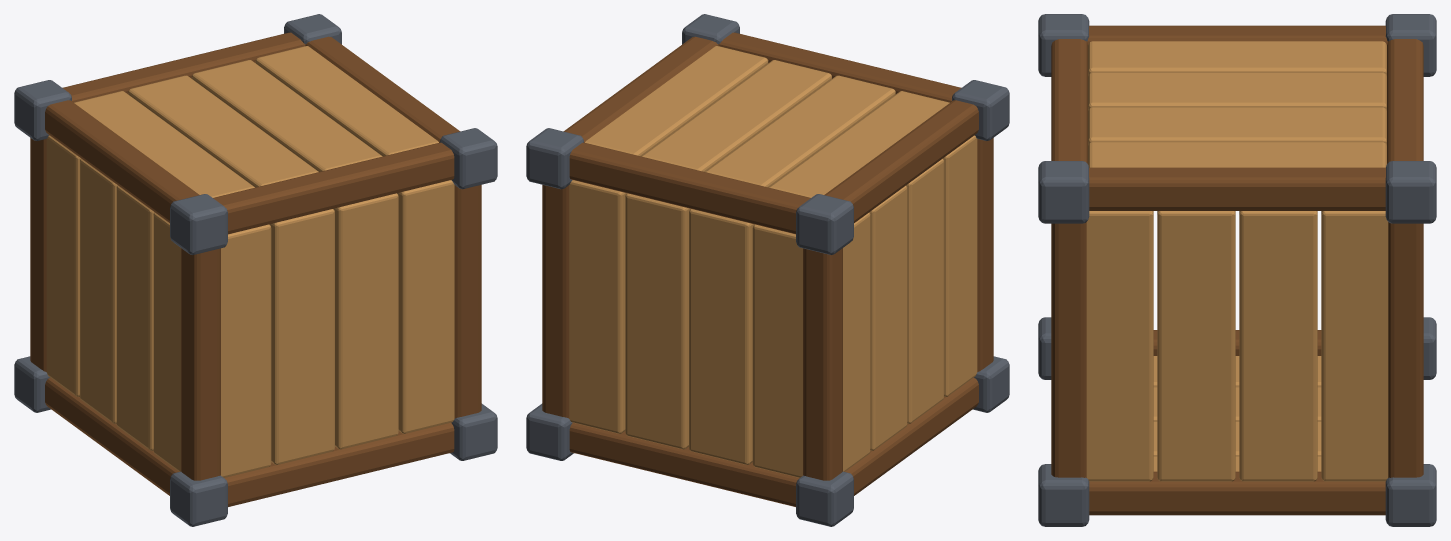
File: Prop_Crate.glb
3 views of the same model, side by side, from view 1: azimuth 30°, elevation 25°; view 2: azimuth 150°, elevation 25°; view 3: azimuth 270°, elevation 25° (orthographic). The views are drawn at different scales.
Visible parts, largest first — view 1: Planks, Frame, Corners; view 2: Planks, Frame, Corners; view 3: Planks, Frame, Corners.
Boxes of the visible parts, x1,y1,x2,y2 form: Planks: (46,46,454,477); Frame: (30,32,481,506); Corners: (14,14,497,526); Planks: (569,46,977,477); Frame: (542,32,993,506); Corners: (526,14,1009,526); Planks: (1086,41,1388,481); Frame: (1051,25,1423,515); Corners: (1038,14,1436,526).
Bounding box in the file's own units: 1.09 × 1.06 × 1.09.
